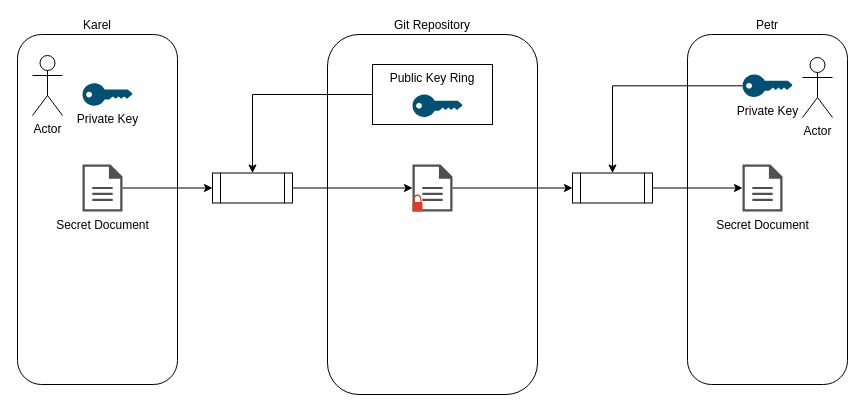
Image size: 865x412. Some labels were removed from this diagram. The shapes that lost their labels are listed below. From the top down, each one's centre as x and y in pixels, then its label:
At (x=252, y=187): "Encrypt".
At (x=432, y=187): "Encrypted Document".
At (x=612, y=187): "Decrypt".
